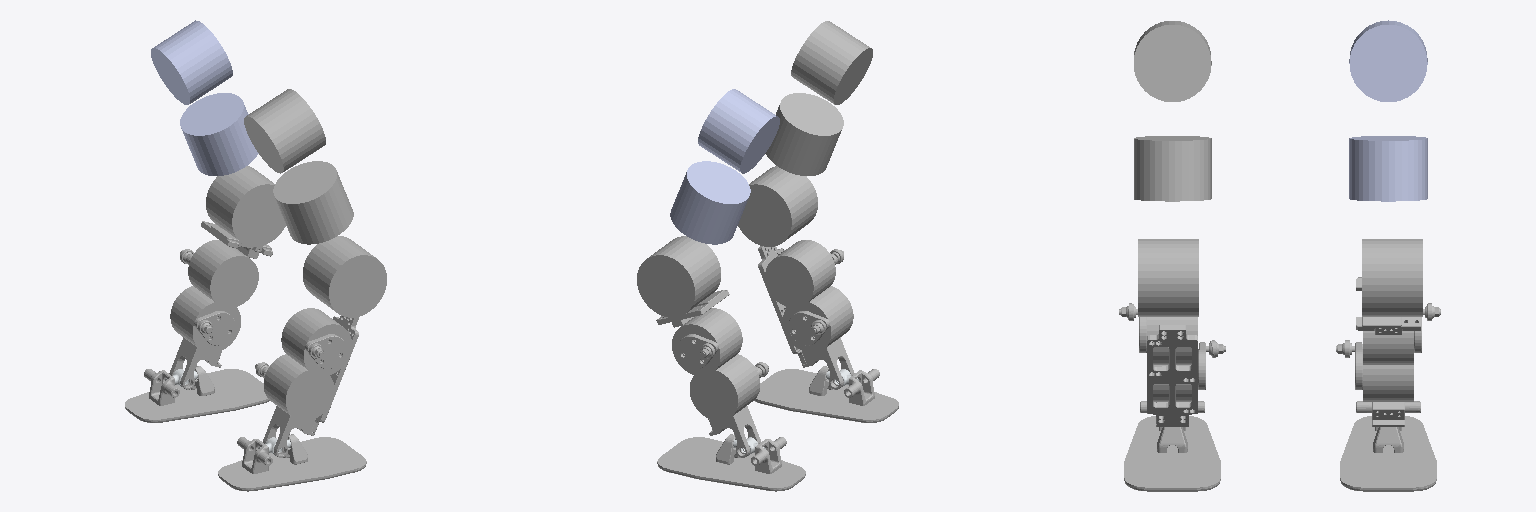
The robot description file, URDF, robot "hi_12dof_250108_4":
<?xml version="1.0" encoding="utf-8"?>
<!-- This URDF was automatically created by SolidWorks to URDF Exporter! Originally created by [author] ([email redacted]) 
     Commit Version: 1.6.0-4-g7f85cfe  Build Version: 1.6.7995.38578
     For more information, please see http://wiki.ros.org/sw_urdf_exporter -->
<robot name="hi_12dof_250108_4">
  <mujoco>
		<compiler meshdir="../meshes/" balanceinertia="true" discardvisual="false" />
	</mujoco>
  <link name="base_link">
    <inertial>
      <origin xyz="-0.00019303 0.00036959 0.01534814" rpy="0 0 0" />
      <mass value="6.73314994" />
      <inertia ixx="0.16409143" ixy="2.467E-05" ixz="0.00018798" iyy="0.08503186" iyz="4.154E-05" izz="0.08435556" />
    </inertial>
    <visual>
      <origin xyz="0 0 0" rpy="0 0 0" />
      <geometry>
        <mesh filename="../meshes/base_link.STL" />
      </geometry>
      <material name="">
        <color rgba="0.792156862745098 0.819607843137255 0.933333333333333 1" />
      </material>
    </visual>
    <collision>
      <origin xyz="0 0 0" rpy="0 0 0" />
      <geometry>
        <mesh filename="../meshes/base_link.STL" />
      </geometry>
    </collision>
  </link>
<!-- right leg -->  
  <link name="r_hip_pitch_link">
    <inertial>
      <origin xyz="-0.00065082 -0.04000352 0" rpy="0 0 0" />
      <mass value="0.68046017" />
      <inertia ixx="0.00047559" ixy="-7.1E-07" ixz="0" iyy="0.00045295" iyz="0" izz="0.00048659" />
    </inertial>
    <visual>
      <origin xyz="0 0 0" rpy="0 0 0" />
      <geometry>
        <mesh filename="../meshes/r_hip_pitch_link.STL" />
      </geometry>
      <material name="">
        <color rgba="0.752941176470588 0.752941176470588 0.752941176470588 1" />
      </material>
    </visual>
    <collision>
      <origin xyz="0 0 0" rpy="0 0 0" />
      <geometry>
        <box size="0.0001 0.0001 0.0001" />
        <!-- <mesh filename="../meshes/r_hip_pitch_link.STL" /> -->
      </geometry>
    </collision>
  </link>
  <joint name="r_hip_pitch_joint" type="revolute">
    <origin xyz="0 -0.0575 -0.141" rpy="0 -0.37 0" />
    <parent link="base_link" />
    <child link="r_hip_pitch_link" />
    <axis xyz="0 1 0" />
    <limit lower="-1.0" upper="1.8" effort="160" velocity="400" />
  </joint>
  <link name="r_hip_roll_link">
    <inertial>
      <origin xyz="-0.02820649 -3.55E-06 -0.07839226" rpy="0 0 0" />
      <mass value="0.80172262" />
      <inertia ixx="0.00145361" ixy="-2E-08" ixz="-3.101E-05" iyy="0.00168848" iyz="-3E-08" izz="0.00071355" />
    </inertial>
    <visual>
      <origin xyz="0 0 0" rpy="0 0 0" />
      <geometry>
        <mesh filename="../meshes/r_hip_roll_link.STL" />
      </geometry>
      <material name="">
        <color rgba="0.752941176470588 0.752941176470588 0.752941176470588 1" />
      </material>
    </visual>
    <collision>
      <origin xyz="0 0 0" rpy="0 0 0" />
      <geometry>
        <box size="0.0001 0.0001 0.0001" />
        <!-- <mesh filename="../meshes/r_hip_roll_link.STL" /> -->
      </geometry>
    </collision>
  </link>
  <joint name="r_hip_roll_joint" type="revolute">
    <origin xyz="0.0287500000000003 -0.0419959226882039 0" rpy="0. 0 0" />
    <parent link="r_hip_pitch_link" />
    <child link="r_hip_roll_link" />
    <axis xyz="1 0 0" />
    <limit lower="-0.5" upper="0.12" effort="40"    velocity="40.0" />
  </joint>
  <link name="r_thigh_link">
    <inertial>
      <origin xyz="0 0.00195775 -0.03843539" rpy="0 0 0" />
      <mass value="0.21648094" />
      <inertia ixx="0.00040135" ixy="0" ixz="0" iyy="0.0002443" iyz="1.748E-05" izz="0.00025072" />
    </inertial>
    <visual>
      <origin xyz="0 0 0" rpy="0 0 0" />
      <geometry>
        <box size="0.0001 0.0001 0.0001" />
        <!-- <mesh filename="../meshes/r_thigh_link.STL" /> -->
      </geometry>
      <material name="">
        <color rgba="0.752941176470588 0.752941176470588 0.752941176470588 1" />
      </material>
    </visual>
    <collision>
      <origin xyz="0 0 0" rpy="0 0 0" />
      <geometry>
        <box size="0.0001 0.0001 0.0001" />
        <!-- <mesh filename="../meshes/r_thigh_link.STL" /> -->
      </geometry>
    </collision>
  </link>
  <joint name="r_thigh_joint" type="revolute">
    <origin xyz="-0.02875 0 -0.127" rpy="0 0 0." />
    <parent link="r_hip_roll_link" />
    <child link="r_thigh_link" />
    <axis xyz="0 0 1" />
    <limit lower="-0.6" upper="0.3" effort="160" velocity="400" />
  </joint>
  <link name="r_calf_link">
    <inertial>
      <origin xyz="0.00112598 -0.00049951 -0.05928644" rpy="0 0 0" />
      <mass value="1.48329574" />
      <inertia ixx="0.00567644" ixy="-8E-07" ixz="9.408E-05" iyy="0.00570914" iyz="9.066E-05" izz="0.00082739" />
    </inertial>
    <visual>
      <origin xyz="0 0 0" rpy="0 0 0" />
      <geometry>
        <mesh filename="../meshes/r_calf_link.STL" />
      </geometry>
      <material name="">
        <color rgba="0.752941176470588 0.752941176470588 0.752941176470588 1" />
      </material>
    </visual>
    <collision>
      <origin xyz="0 0 0" rpy="0 0 0" />
      <geometry>
        <box size="0.0001 0.0001 0.0001" />
        <!-- <mesh filename="../meshes/r_calf_link.STL" /> -->
      </geometry>
    </collision>
  </link>
  <joint name="r_calf_joint" type="revolute">
    <origin xyz="0 0 -0.073" rpy="0 0.8 0" />
    <parent link="r_thigh_link" />
    <child link="r_calf_link" />
    <axis xyz="0 1 0" />
    <limit lower="-0.75" upper="1.4" effort="160" velocity="400" />
  </joint>
  <link name="r_ankle_pitch_link">
    <inertial>
      <origin xyz="0 0 0" rpy="0 0 0" />
      <mass value="0.0089231" />
      <inertia ixx="2.3E-07" ixy="0" ixz="0" iyy="1.02E-06" iyz="0" izz="9.9E-07" />
    </inertial>
    <visual>
      <origin xyz="0 0 0" rpy="0 0 0" />
      <geometry>
        <mesh filename="../meshes/r_ankle_pitch_link.STL" />
      </geometry>
      <material name="">
        <color rgba="0.898039215686275 0.917647058823529 0.929411764705882 1" />
      </material>
    </visual>
    <collision>
      <origin xyz="0 0 0" rpy="0 0 0" />
      <geometry>
        <box size="0.0001 0.0001 0.0001" />
        <!-- <mesh filename="../meshes/r_ankle_pitch_link.STL" /> -->
      </geometry>
    </collision>
  </link>
  <joint name="r_ankle_pitch_joint" type="revolute">
    <origin xyz="0 0 -0.2" rpy="0 -0.43 0" />
    <parent link="r_calf_link" />
    <child link="r_ankle_pitch_link" />
    <axis xyz="0 1 0" />
    <limit lower="-0.6" upper="1.15" effort="160" velocity="400" />
  </joint>
  <link name="r_ankle_roll_link">
    <inertial>
      <origin xyz="0.01853925 1.46E-06 -0.022799" rpy="0 0 0" />
      <mass value="0.34845776" />
      <inertia ixx="0.00019585" ixy="-2E-08" ixz="1.687E-05" iyy="0.00063628" iyz="0" izz="0.00080057" />
    </inertial>
    <visual>
      <origin xyz="0 0 0" rpy="0 0 0" />
      <geometry>
        <mesh filename="../meshes/r_ankle_roll_link.STL" />
      </geometry>
      <material name="">
        <color rgba="0.752941176470588 0.752941176470588 0.752941176470588 1" />
      </material>
    </visual>
    <collision>
      <origin xyz="0 0 0" rpy="0 0 0" />
      <geometry>
        <!-- <box size="0.0001 0.0001 0.0001" /> -->
        <mesh filename="../meshes/r_ankle_roll_link.STL" />
      </geometry>
    </collision>
  </link>
  <joint name="r_ankle_roll_joint" type="revolute">
    <origin xyz="0 0 0" rpy="0 0 0" />
    <parent link="r_ankle_pitch_link" />
    <child link="r_ankle_roll_link" />
    <axis xyz="1 0 0" />
    <limit lower="-0.05" upper="0.05" effort="160" velocity="400" />
  </joint>

<!-- left leg -->  
  <link name="l_hip_pitch_link">
    <inertial>
      <origin xyz="-0.00065082 0.04000698 0" rpy="0 0 0" />
      <mass value="0.68046017" />
      <inertia ixx="0.0004756" ixy="7.1E-07" ixz="0" iyy="0.00045295" iyz="0" izz="0.0004866" />
    </inertial>
    <visual>
      <origin xyz="0 0 0" rpy="0 0 0" />
      <geometry>
        <mesh filename="../meshes/l_hip_pitch_link.STL" />
      </geometry>
      <material name="">
        <color rgba="0.792156862745098 0.819607843137255 0.933333333333333 1" />
      </material>
    </visual>
    <collision>
      <origin xyz="0 0 0" rpy="0 0 0" />
      <geometry>
        <box size="0.0001 0.0001 0.0001" />
        <!-- <mesh filename="../meshes/l_hip_pitch_link.STL" /> -->
      </geometry>
    </collision>
  </link>
  <joint name="l_hip_pitch_joint" type="revolute">
    <origin xyz="0 0.0575 -0.141" rpy="0 -0.37 0" />
    <parent link="base_link" />
    <child link="l_hip_pitch_link" />
    <axis xyz="0 1 0" />
    <limit lower="-1" upper="1.8" effort="160" velocity="400" />
  </joint>
  <link name="l_hip_roll_link">
    <inertial>
      <origin xyz="-0.02820649 0 -0.07839226" rpy="0 0 0" />
      <mass value="0.80172262" />
      <inertia ixx="0.00145361" ixy="0" ixz="-3.1E-05" iyy="0.00168848" iyz="0" izz="0.00071355" />
    </inertial>
    <visual>
      <origin xyz="0 0 0" rpy="0 0 0" />
      <geometry>
        <mesh filename="../meshes/l_hip_roll_link.STL" />
      </geometry>
      <material name="">
        <color rgba="0.792156862745098 0.819607843137255 0.933333333333333 1" />
      </material>
    </visual>
    <collision>
      <origin xyz="0 0 0" rpy="0 0 0" />
      <geometry>
        <box size="0.0001 0.0001 0.0001" />
        <!-- <mesh filename="../meshes/l_hip_roll_link.STL" /> -->
      </geometry>
    </collision>
  </link>
  <joint name="l_hip_roll_joint" type="revolute">
    <origin xyz="0.02875 0.042 0" rpy="-0.0 0 0" />
    <parent link="l_hip_pitch_link" />
    <child link="l_hip_roll_link" />
    <axis xyz="1 0 0" />
    <limit lower="-0.12" upper="0.5" effort="40"    velocity="40.0" />
  </joint>
  <link name="l_thigh_link">
    <inertial>
      <origin xyz="0 -0.00195775 -0.03843539" rpy="0 0 0" />
      <mass value="0.21648094" />
      <inertia ixx="0.00040135" ixy="0" ixz="0" iyy="0.0002443" iyz="-1.748E-05" izz="0.00025072" />
    </inertial>
    <visual>
      <origin xyz="0 0 0" rpy="0 0 0" />
      <geometry>
        <box size="0.0001 0.0001 0.0001" />
        <!-- <mesh filename="../meshes/l_thigh_link.STL" /> -->
      </geometry>
      <material name="">
        <color rgba="0.752941176470588 0.752941176470588 0.752941176470588 1" />
      </material>
    </visual>
    <collision>
      <origin xyz="0 0 0" rpy="0 0 0" />
      <geometry>
        <box size="0.0001 0.0001 0.0001" />
        <!-- <mesh filename="../meshes/l_thigh_link.STL" /> -->
      </geometry>
    </collision>
  </link>
  <joint name="l_thigh_joint" type="revolute">
    <origin xyz="-0.02875 0 -0.127" rpy="0 0 0" />
    <parent link="l_hip_roll_link" />
    <child link="l_thigh_link" />
    <axis xyz="0 0 1" />
    <limit lower="-0.3" upper="0.6" effort="40"    velocity="40.0" />
  </joint>
  <link name="l_calf_link">
    <inertial>
      <origin xyz="0.00111832 0.00049709 -0.0596686" rpy="0 0 0" />
      <mass value="1.48757619" />
      <inertia ixx="0.00575491" ixy="8.3E-07" ixz="9.319E-05" iyy="0.00578785" iyz="-9.095E-05" izz="0.00082773" />
    </inertial>
    <visual>
      <origin xyz="0 0 0" rpy="0 0 0" />
      <geometry>
        <mesh filename="../meshes/l_calf_link.STL" />
      </geometry>
      <material name="">
        <color rgba="0.752941176470588 0.752941176470588 0.752941176470588 1" />
      </material>
    </visual>
    <collision>
      <origin xyz="0 0 0" rpy="0 0 0" />
      <geometry>
        <box size="0.0001 0.0001 0.0001" />
        <!-- <mesh filename="../meshes/l_calf_link.STL" /> -->
      </geometry>
    </collision>
  </link>
  <joint name="l_calf_joint" type="revolute">
    <origin xyz="0 0 -0.073" rpy="0 0.8 0" />
    <parent link="l_thigh_link" />
    <child link="l_calf_link" />
    <axis xyz="0 1 0" />
    <limit lower="-0.75" upper="1.4" effort="160" velocity="400" />
  </joint>
  <link name="l_ankle_pitch_link">
    <inertial>
      <origin xyz="0 0 0" rpy="0 0 0" />
      <mass value="0.0089231" />
      <inertia ixx="2.3E-07" ixy="0" ixz="0" iyy="1.02E-06" iyz="0" izz="9.9E-07" />
    </inertial>
    <visual>
      <origin xyz="0 0 0" rpy="0 0 0" />
      <geometry>
        <mesh filename="../meshes/l_ankle_pitch_link.STL" />
      </geometry>
      <material name="">
        <color rgba="0.898039215686275 0.917647058823529 0.929411764705882 1" />
      </material>
    </visual>
    <collision>
      <origin xyz="0 0 0" rpy="0 0 0" />
      <geometry>
        <box size="0.0001 0.0001 0.0001" />
        <!-- <mesh filename="../meshes/l_ankle_pitch_link.STL" /> -->
      </geometry>
    </collision>
  </link>
  <joint name="l_ankle_pitch_joint" type="revolute">
    <origin xyz="0 0 -0.199999997760877" rpy="0 -0.43 0" />
    <parent link="l_calf_link" />
    <child link="l_ankle_pitch_link" />
    <axis xyz="0 1 0" />
    <limit lower="-0.6" upper="1.15" effort="160" velocity="400" />
  </joint>
  <link name="l_ankle_roll_link">
    <inertial>
      <origin xyz="0.01853925 1.46E-06 -0.022799" rpy="0 0 0" />
      <mass value="0.34845776" />
      <inertia ixx="0.00019585" ixy="-2E-08" ixz="1.687E-05" iyy="0.00063628" iyz="0" izz="0.00080057" />
    </inertial>
    <visual>
      <origin xyz="0 0 0" rpy="0 0 0" />
      <geometry>
        <mesh filename="../meshes/l_ankle_roll_link.STL" />
      </geometry>
      <material name="">
        <color rgba="0.752941176470588 0.752941176470588 0.752941176470588 1" />
      </material>
    </visual>
    <collision>
      <origin xyz="0 0 0" rpy="0 0 0" />
      <geometry>
        <mesh filename="../meshes/l_ankle_roll_link.STL" />
      </geometry>
    </collision>
  </link>
  <joint name="l_ankle_roll_joint" type="revolute">
    <origin xyz="0 0 0" rpy="0.0 0 0" />
    <parent link="l_ankle_pitch_link" />
    <child link="l_ankle_roll_link" />
    <axis xyz="1 0 0" />
    <limit lower="-0.05" upper="0.05" effort="160" velocity="400" />
  </joint>
</robot>

--- What the picture shows (computed from the rendered views, not written in the file) ---
3 views of the same robot in one strip: view 1: azimuth 30°, elevation 25°; view 2: azimuth 150°, elevation 25°; view 3: azimuth 270°, elevation 25° (orthographic).
Model hi_12dof_250108_4 with 13 links and 12 joints (12 revolute), rooted at base_link, posed all joints at 0.
Visible links, largest first — view 1: r_calf_link, l_calf_link, r_ankle_roll_link, l_ankle_roll_link, r_hip_roll_link, l_hip_roll_link, r_hip_pitch_link, l_hip_pitch_link; view 2: l_calf_link, r_calf_link, l_ankle_roll_link, r_ankle_roll_link, l_hip_roll_link, r_hip_roll_link, r_hip_pitch_link, l_hip_pitch_link; view 3: r_calf_link, l_calf_link, l_ankle_roll_link, r_ankle_roll_link, l_hip_roll_link, l_hip_pitch_link, r_hip_pitch_link, r_hip_roll_link.
Boxes of the visible links, x1=… form: r_calf_link: x1=255, y1=236, x2=386, y2=457; l_calf_link: x1=169, y1=166, x2=285, y2=389; r_ankle_roll_link: x1=218, y1=434, x2=366, y2=491; l_ankle_roll_link: x1=125, y1=366, x2=269, y2=422; r_hip_roll_link: x1=273, y1=161, x2=353, y2=244; l_hip_roll_link: x1=180, y1=93, x2=258, y2=175; r_hip_pitch_link: x1=244, y1=89, x2=325, y2=173; l_hip_pitch_link: x1=151, y1=20, x2=232, y2=104; l_calf_link: x1=637, y1=236, x2=768, y2=457; r_calf_link: x1=738, y1=166, x2=854, y2=389; l_ankle_roll_link: x1=657, y1=434, x2=805, y2=491; r_ankle_roll_link: x1=754, y1=366, x2=898, y2=422; l_hip_roll_link: x1=670, y1=161, x2=750, y2=244; r_hip_roll_link: x1=765, y1=93, x2=843, y2=175; r_hip_pitch_link: x1=791, y1=21, x2=872, y2=104; l_hip_pitch_link: x1=698, y1=89, x2=779, y2=173; r_calf_link: x1=1119, y1=239, x2=1225, y2=426; l_calf_link: x1=1336, y1=239, x2=1440, y2=426; l_ankle_roll_link: x1=1340, y1=401, x2=1436, y2=491; r_ankle_roll_link: x1=1124, y1=401, x2=1220, y2=491; l_hip_roll_link: x1=1349, y1=136, x2=1427, y2=201; l_hip_pitch_link: x1=1349, y1=20, x2=1427, y2=101; r_hip_pitch_link: x1=1134, y1=21, x2=1211, y2=101; r_hip_roll_link: x1=1134, y1=136, x2=1211, y2=201.
Bounding box of the posed robot: 0.1808 × 0.2971 × 0.4427 m (x, y, z).
Meshes: 11 distinct files referenced, 10 mesh visuals loaded (10 binary STL); not drawn: 1 (reference not matched to a file when rendering).